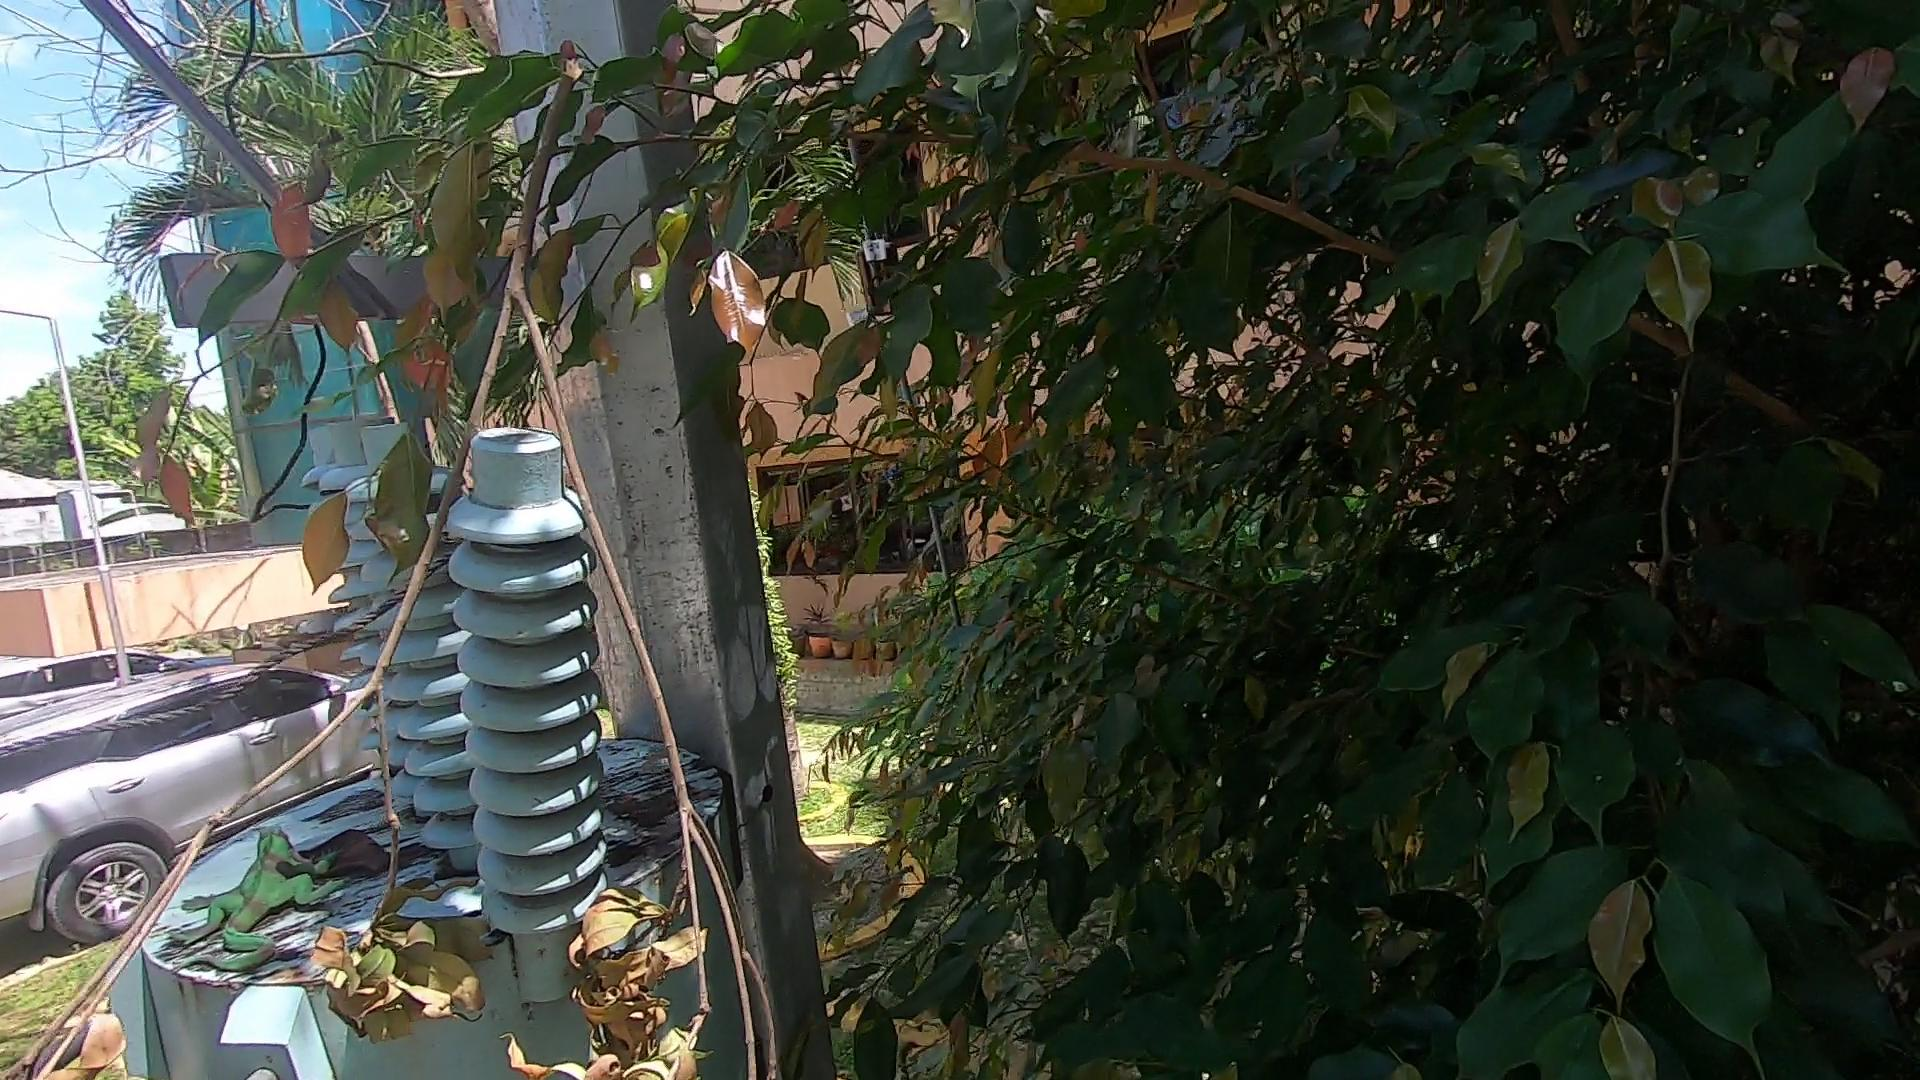branch with leaves: (1, 32, 789, 1076)
leaf: (291, 829, 415, 876)
